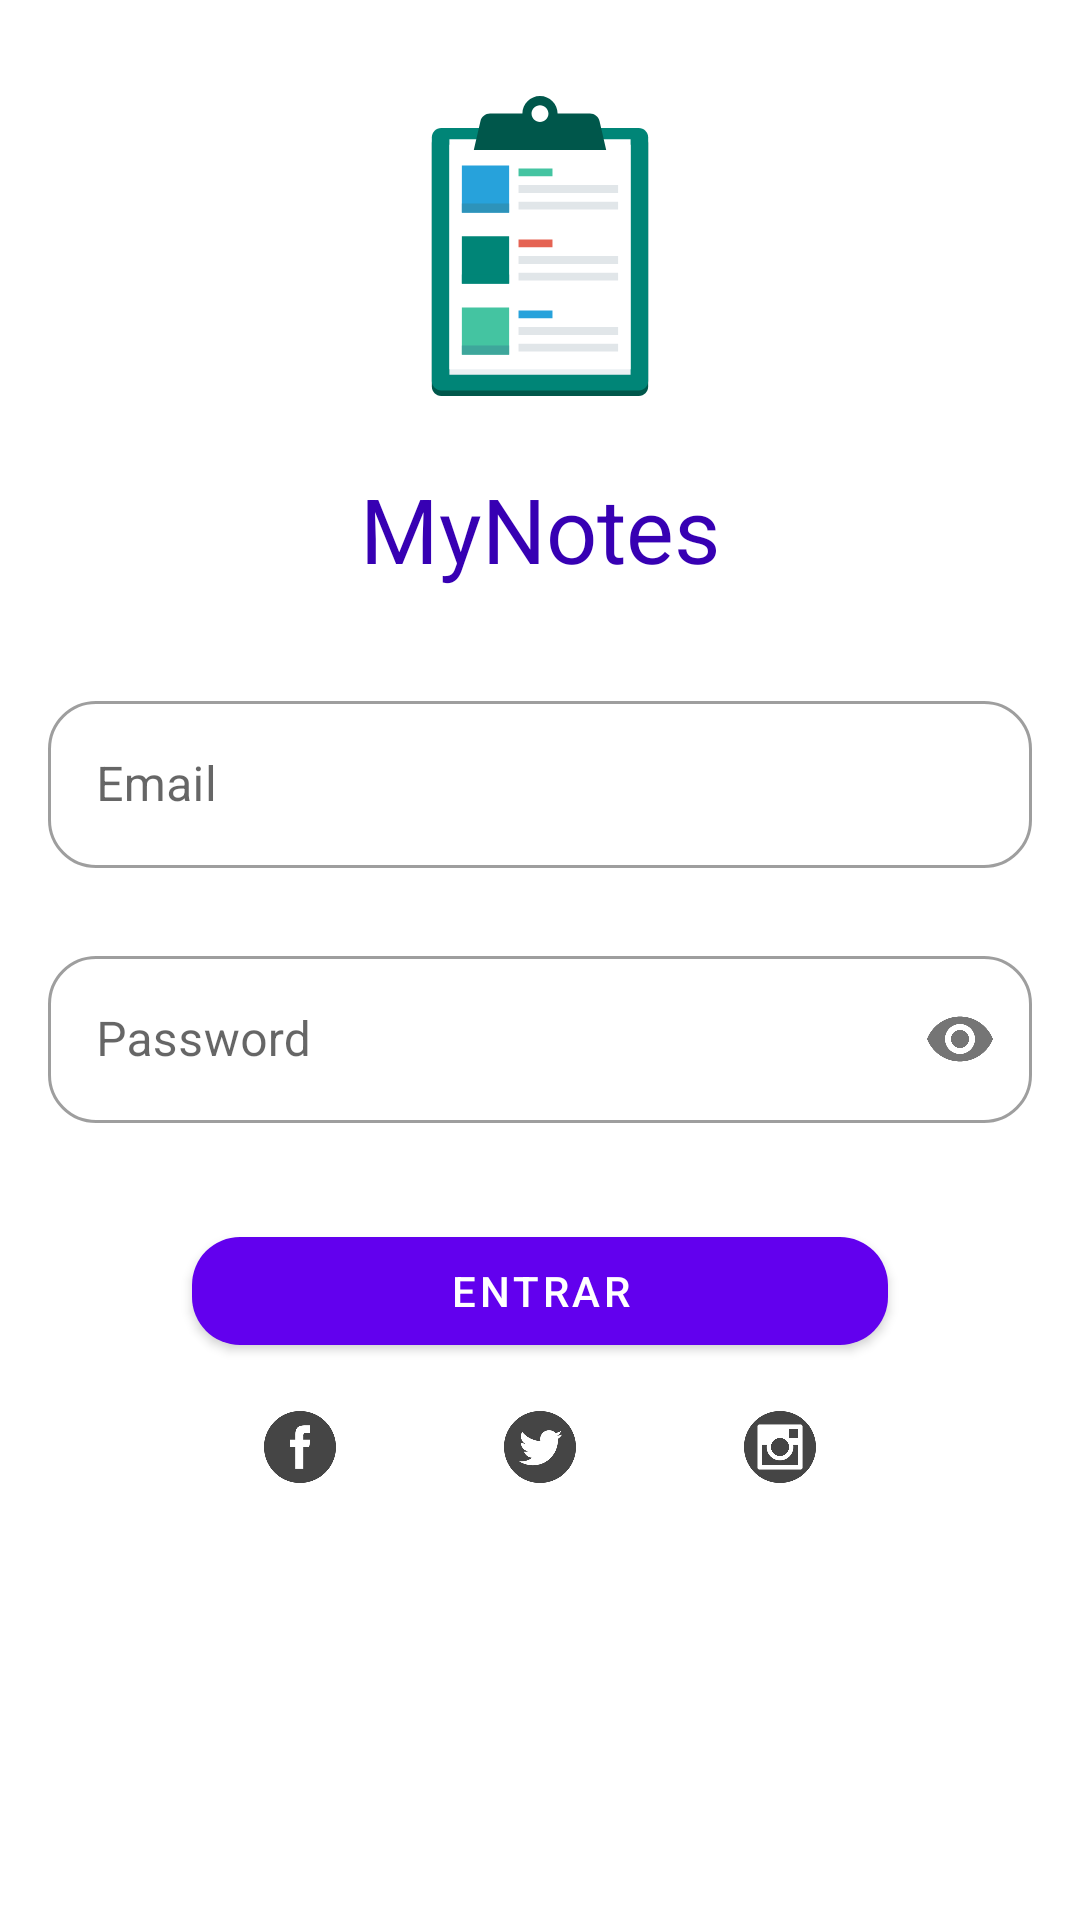

Locate icon controls on the screen. Image size 1080px x 1920px, boxes as (x1=x1, y1=y1, x2=x2, y2=y2).
checklist: (x1=431, y1=96, x2=649, y2=396)
